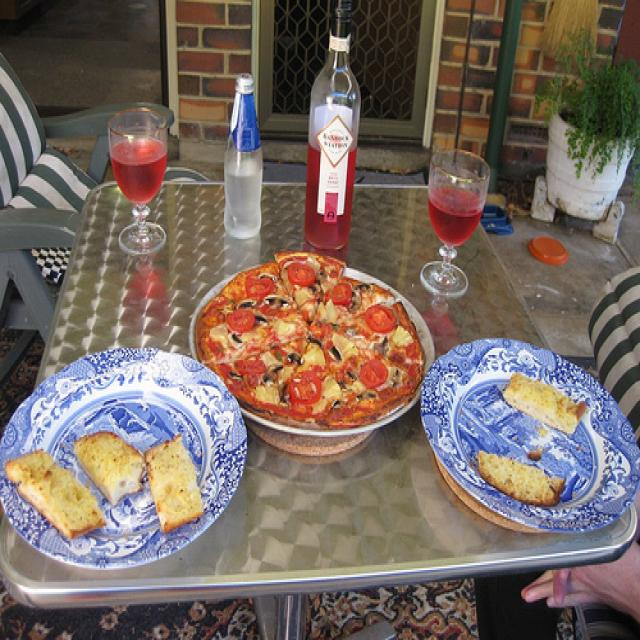chair: (1, 44, 177, 351), (458, 121, 488, 145)
dining table: (14, 182, 639, 589)
